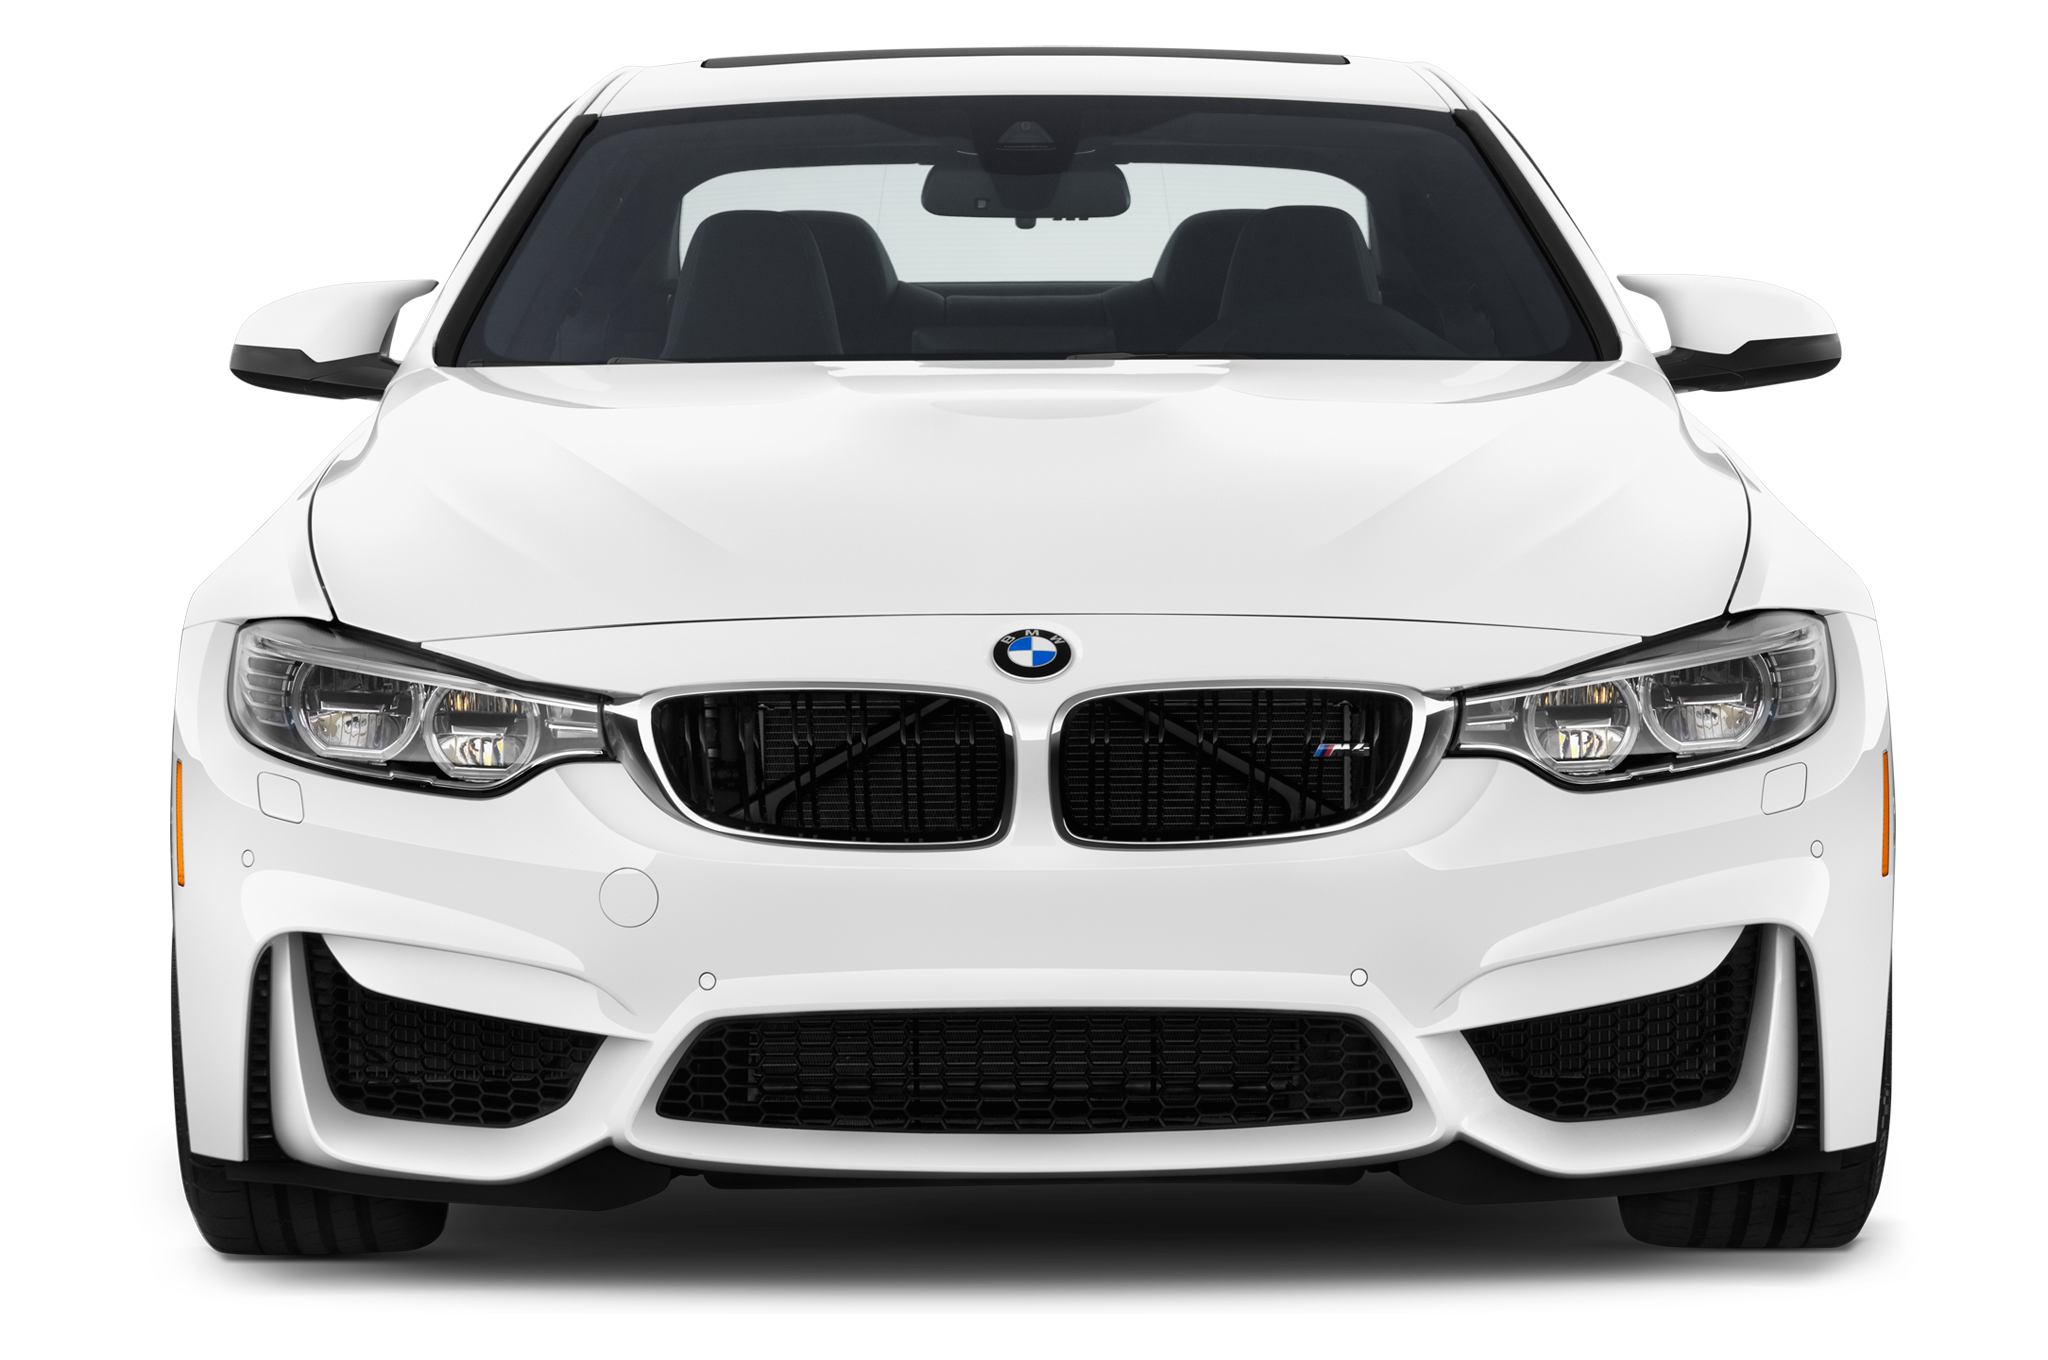P1_: (1325, 951, 1340, 966)
bbox: (743, 951, 1326, 1090)
